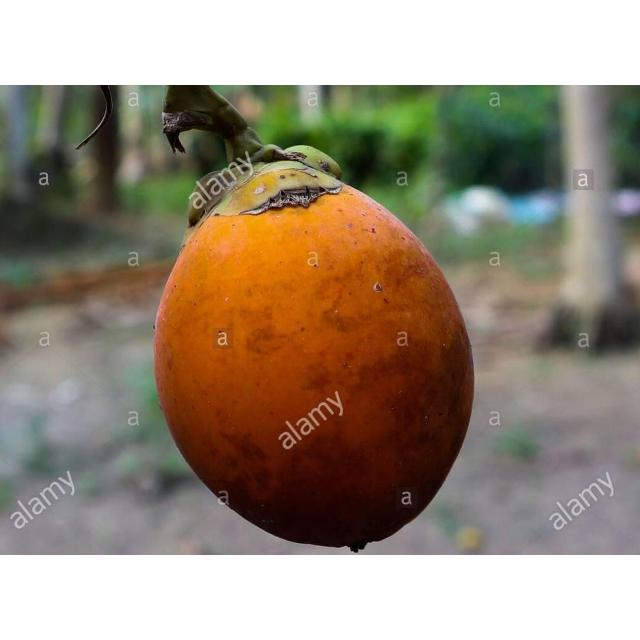good: (152, 144, 475, 554)
